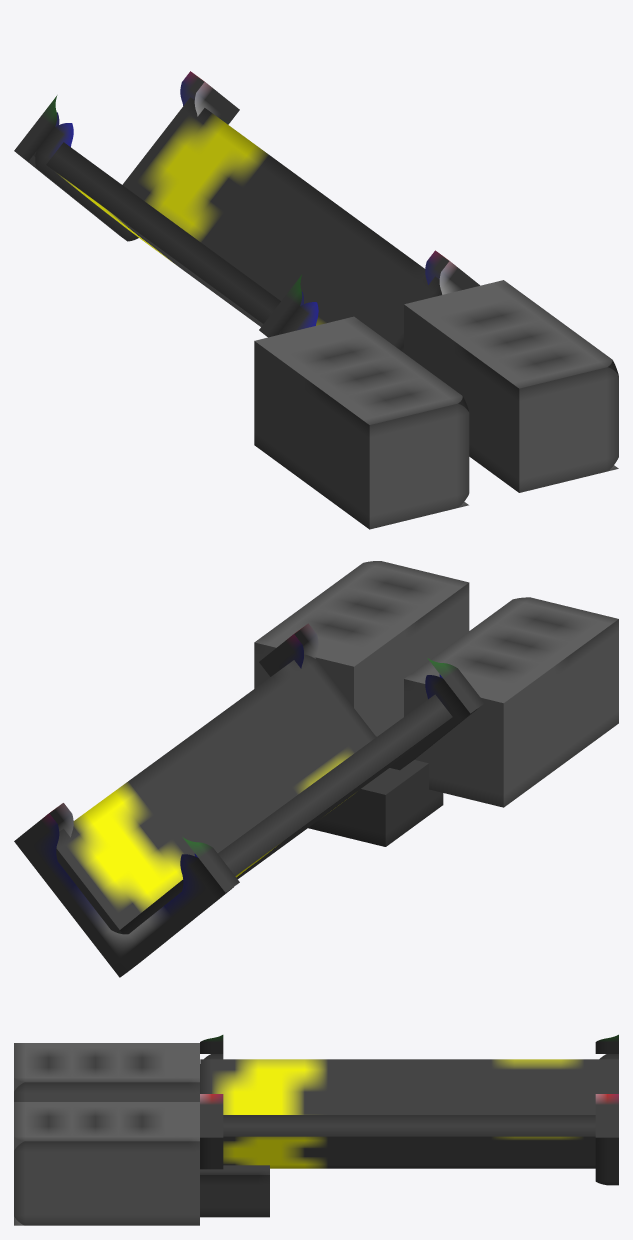
File: cruise_launcher_dynamic.obj
3 renders of one model, top to bottom at view 1: azimuth 30°, elevation 25°; view 2: azimuth 150°, elevation 25°; view 3: azimuth 270°, elevation 25°, orthographic. The views are drawn at different scales.
Visible parts, largest first — view 1: COUNTERBALANCE_1_ROT, RAIL_1_ROT, COUNTERBALANCE_2_ROT, RAIL_2_ROT, CLAMP_1_ROT, CLAMP_2_ROT; view 2: RAIL_1_ROT, COUNTERBALANCE_1_ROT, COUNTERBALANCE_2_ROT, CLAMP_1_ROT, RAIL_2_ROT, TORQUE_SUPPORT_ROT, CLAMP_2_ROT; view 3: COUNTERBALANCE_2_ROT, RAIL_2_ROT, RAIL_1_ROT, COUNTERBALANCE_1_ROT, TORQUE_SUPPORT_ROT, CLAMP_1_ROT, CLAMP_2_ROT.
Boxes of the visible parts, box(x1,y1,x2,y2) form: COUNTERBALANCE_1_ROT: box(254, 316, 469, 529); RAIL_1_ROT: box(122, 97, 442, 352); COUNTERBALANCE_2_ROT: box(404, 280, 618, 492); RAIL_2_ROT: box(33, 142, 280, 334); CLAMP_1_ROT: box(14, 71, 239, 241); CLAMP_2_ROT: box(259, 250, 479, 337); RAIL_1_ROT: box(56, 654, 376, 932); COUNTERBALANCE_1_ROT: box(404, 597, 618, 807); COUNTERBALANCE_2_ROT: box(254, 561, 469, 736); CLAMP_1_ROT: box(14, 803, 239, 977); RAIL_2_ROT: box(120, 694, 452, 934); TORQUE_SUPPORT_ROT: box(308, 736, 443, 846); CLAMP_2_ROT: box(259, 623, 484, 770); COUNTERBALANCE_2_ROT: box(14, 1102, 199, 1225); RAIL_2_ROT: box(200, 1059, 618, 1114); RAIL_1_ROT: box(223, 1115, 595, 1168); COUNTERBALANCE_1_ROT: box(14, 1043, 199, 1101); TORQUE_SUPPORT_ROT: box(200, 1165, 269, 1217); CLAMP_1_ROT: box(595, 1034, 618, 1185); CLAMP_2_ROT: box(200, 1035, 223, 1169).
Size of the model in its own units: 0.625 by 0.5669 by 1.63.
